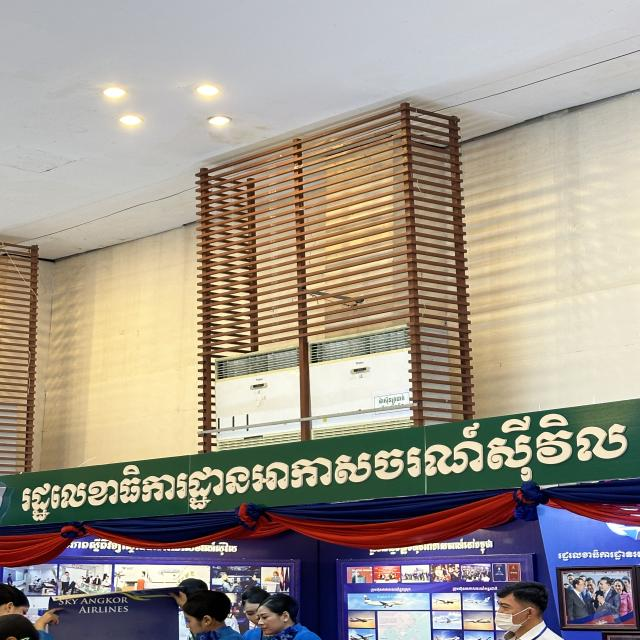Yolov11_80vkh: (11, 400, 633, 521)
